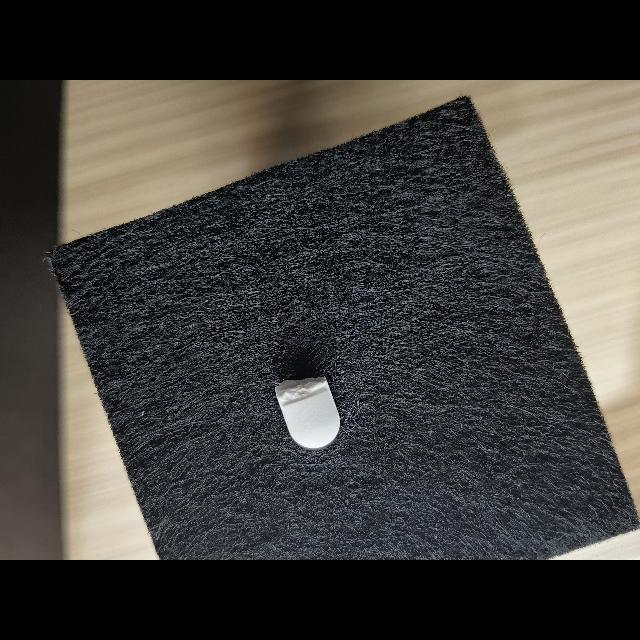Chipped Pill: (275, 376, 340, 448)
